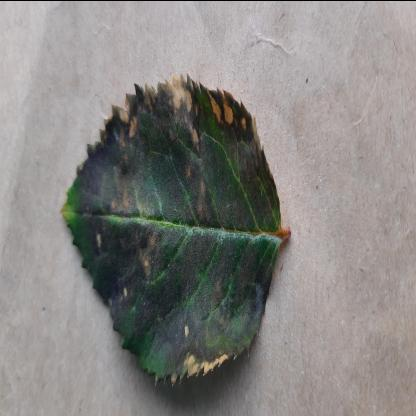powdery-mildew: (60, 69, 280, 395)
